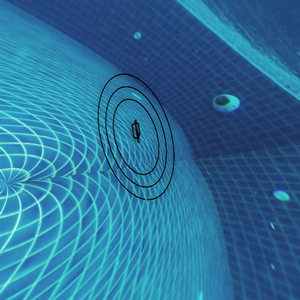circle: (90, 64, 190, 207)
submarine: (132, 124, 144, 139)
